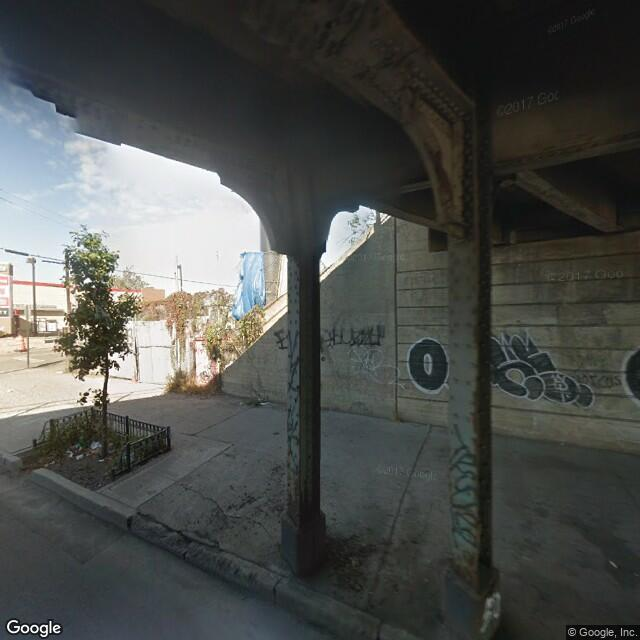litter: (58, 443, 109, 464), (244, 395, 281, 414)
